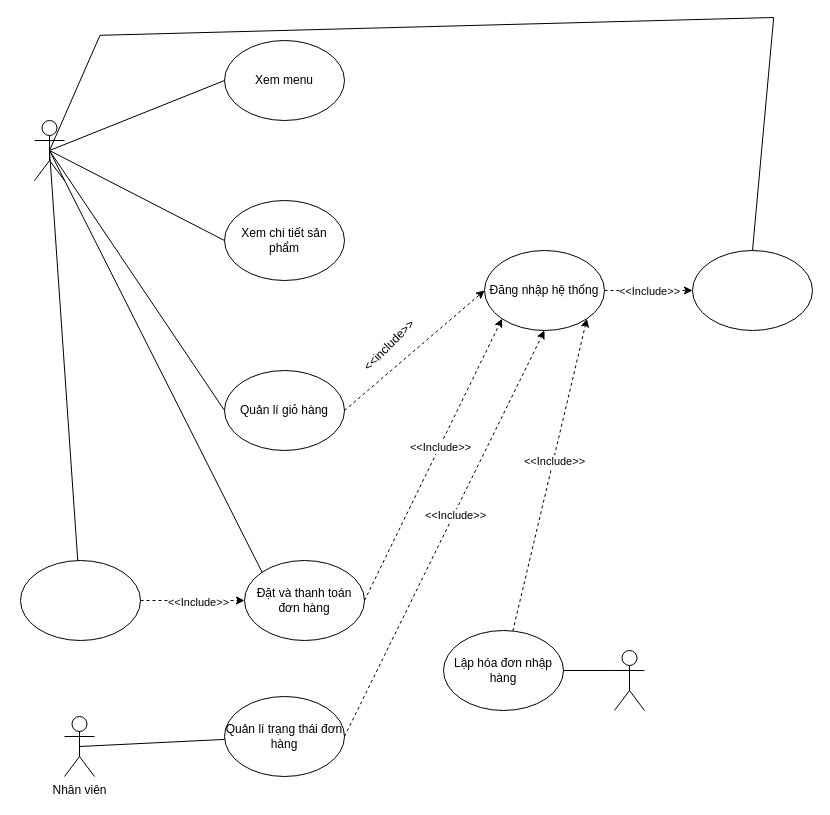
This 830x815 diagram has some shape labels left out. Here are the shapes that lost their labels. From the top down, the centre of each, then its label:
At point 49,150: "Khách hàng".
At point 752,290: "Đăng kí tài khoản".
At point 80,600: "Xem lịch sử đơn hàng".
At point 629,680: "Quản lí".
